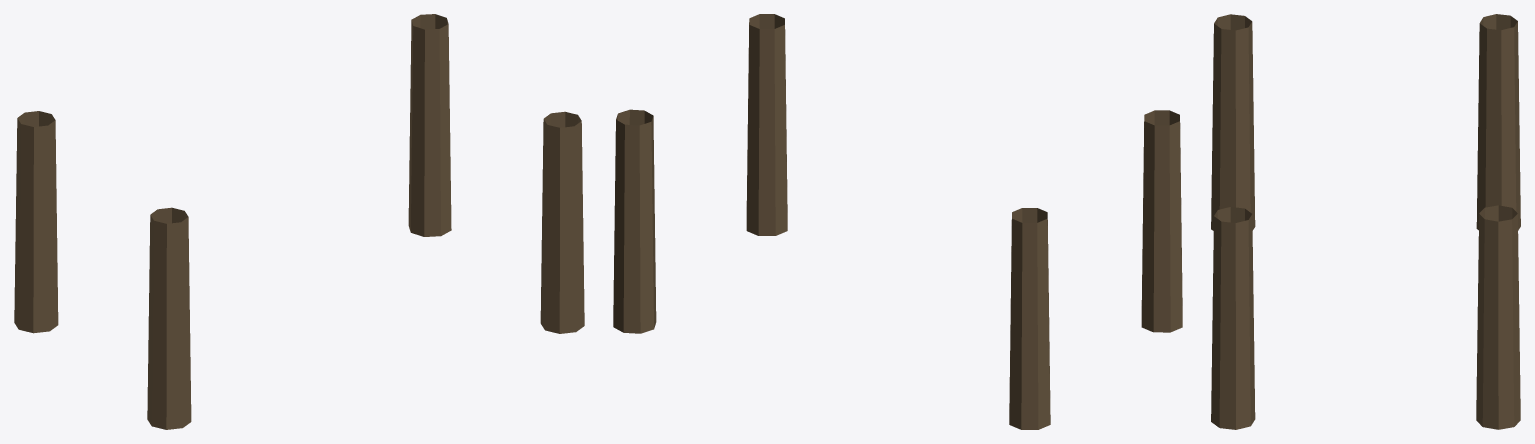
The model's file is rpgpp_ag_wall_platform_02_2x4_support_01b.fbx.
The picture shows the model from 3 angles, left to right: view 1: azimuth 30°, elevation 25°; view 2: azimuth 150°, elevation 25°; view 3: azimuth 270°, elevation 25°; orthographic projection.
Parts seen in each view (by area): view 1: rpgpp_ag_wall_platform_02_2x4_support_01b; view 2: rpgpp_ag_wall_platform_02_2x4_support_01b; view 3: rpgpp_ag_wall_platform_02_2x4_support_01b.
Part boxes in pixels (left/top/right/bottom): rpgpp_ag_wall_platform_02_2x4_support_01b: left=14, top=14, right=584, bottom=429; rpgpp_ag_wall_platform_02_2x4_support_01b: left=613, top=14, right=1182, bottom=429; rpgpp_ag_wall_platform_02_2x4_support_01b: left=1211, top=14, right=1520, bottom=429.
Bounding box in the file's own units: 3.96 × 1.8 × 2.45.
